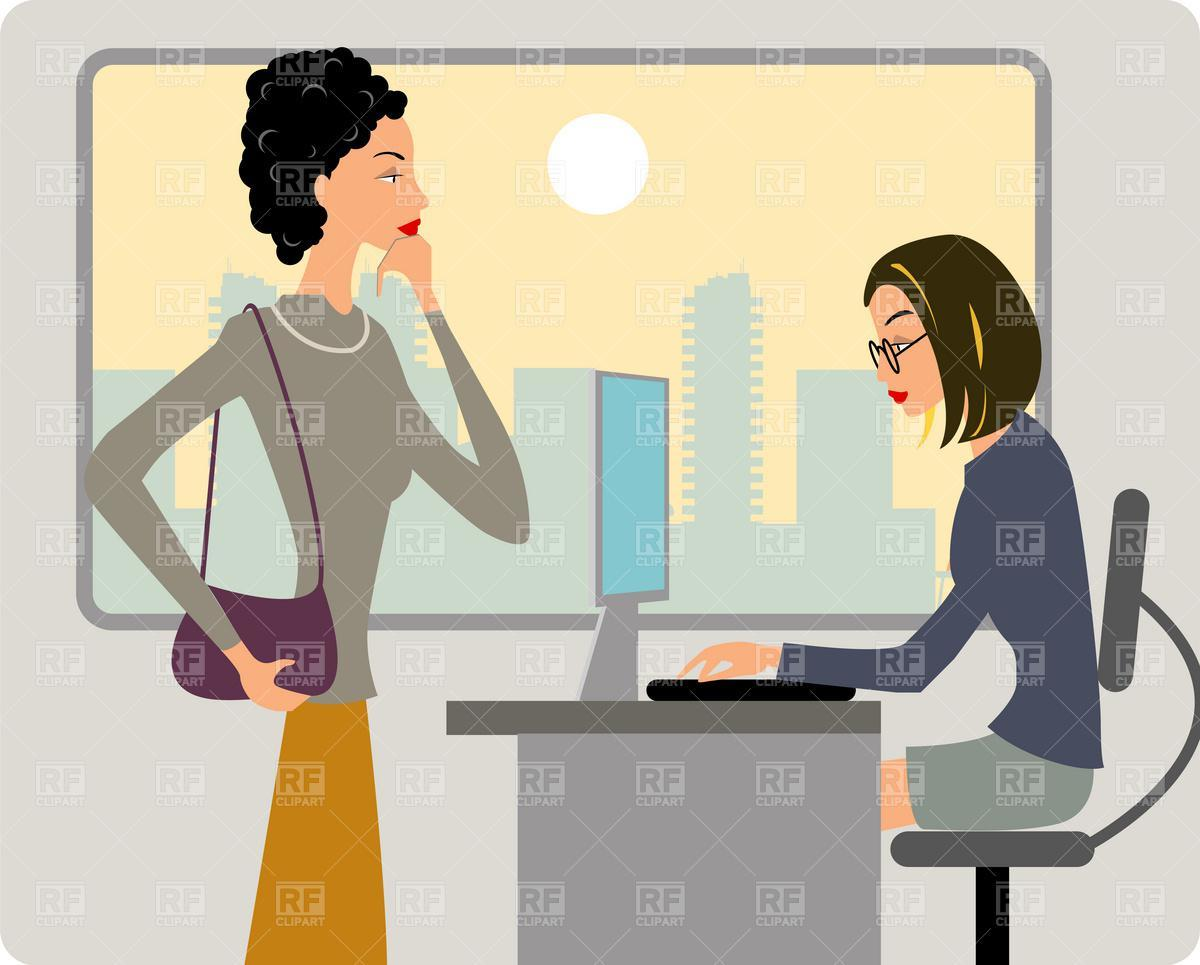chair: (875, 483, 1200, 962)
person: (79, 49, 535, 963), (668, 228, 1103, 836)
tvmonitor: (568, 365, 675, 699)
